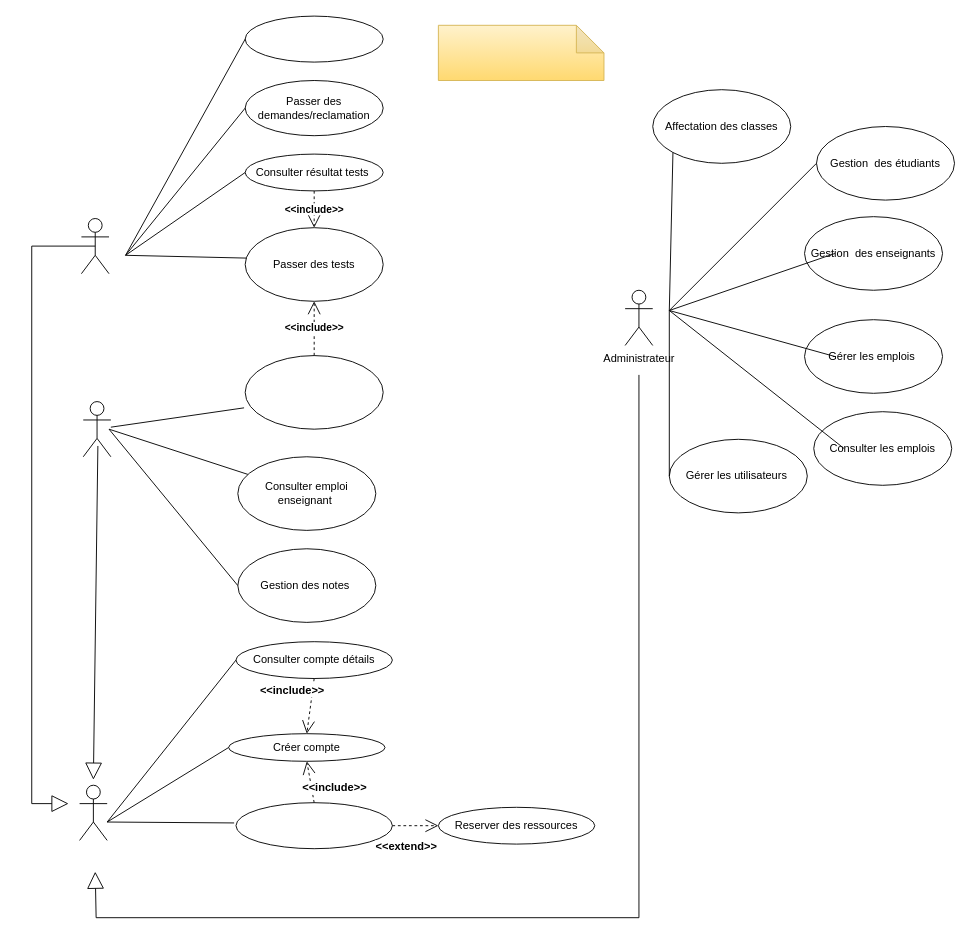
Image size: 971x950. Some labels were removed from this diagram. Here are the shapes that lost their labels. From the top down, the box of each, then its label:
(244, 15, 383, 62): Consulter emploi etudiant
(437, 24, 604, 80): Tous ces cas d'utilisation nécessitent l'authentification
(80, 218, 109, 274): Etudiant
(244, 355, 383, 429): Confirmer résultat test
(82, 401, 111, 457): Enseignant
(79, 784, 107, 840): Utilisateur
(235, 802, 392, 849): Consulter la disponibilité des ressources
